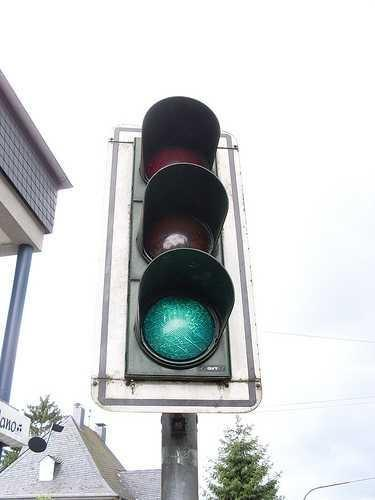green_light: (90, 94, 263, 414)
